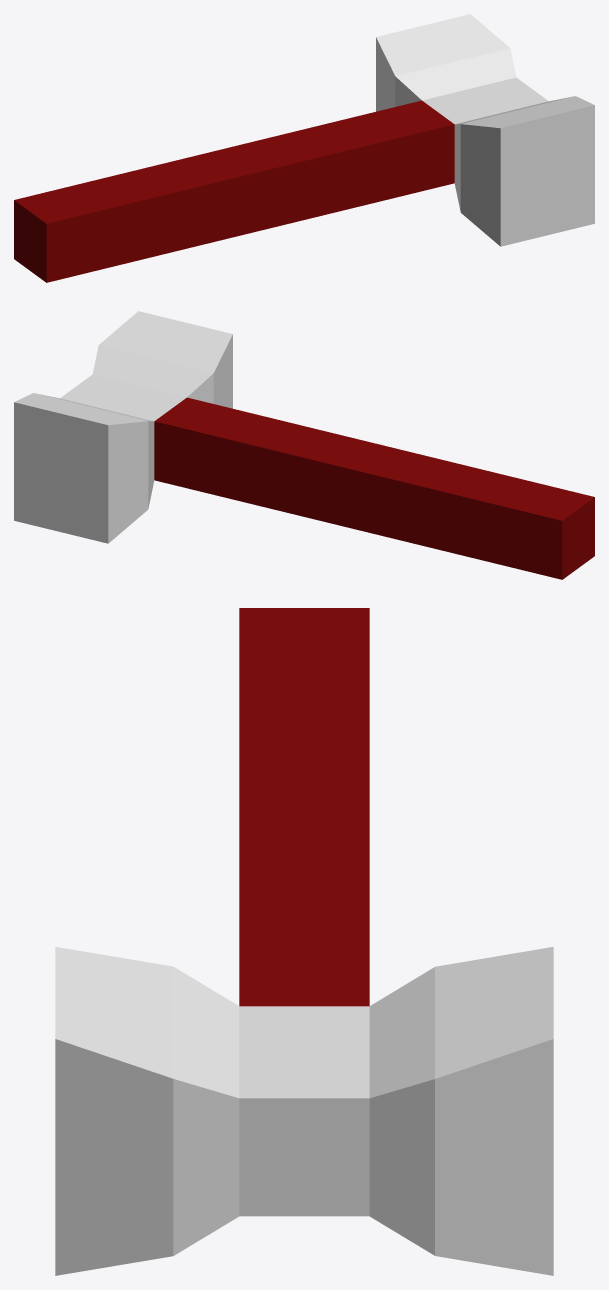
The model's file is hammer.fbx.
3 views of the same model, one above another, from view 1: azimuth 30°, elevation 25°; view 2: azimuth 150°, elevation 25°; view 3: azimuth 270°, elevation 25° (orthographic). The views are drawn at different scales.
Parts seen in each view (by area): view 1: Cube; view 2: Cube; view 3: Cube.
Part boxes in pixels (box(x1,y1,x2,y2)): Cube: box(14, 14, 594, 282); Cube: box(14, 311, 594, 579); Cube: box(55, 608, 553, 1275).
Bounding box in the file's own units: 1818 × 402 × 765.
